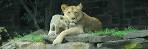lion: (48, 4, 102, 46)
